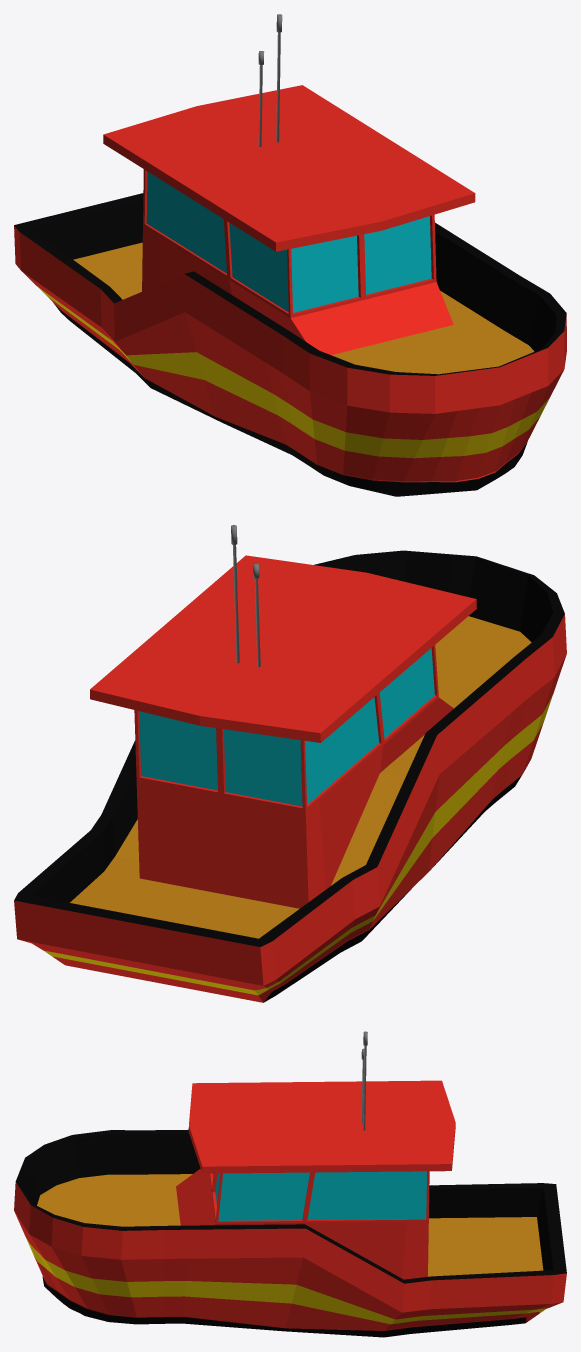
Rendered from bathtub boat.glb.
3 views of the same model, one above another, from view 1: azimuth 30°, elevation 25°; view 2: azimuth 150°, elevation 25°; view 3: azimuth 270°, elevation 25° (orthographic). The views are drawn at different scales.
Parts seen in each view (by area): view 1: ship; view 2: ship; view 3: ship.
Part boxes in pixels (box(x1,y1,x2,y2)): ship: box(14, 14, 566, 496); ship: box(14, 525, 566, 1002); ship: box(14, 1031, 566, 1337).
Size of the model in its own units: 5.1 by 6.45 by 11.62.
